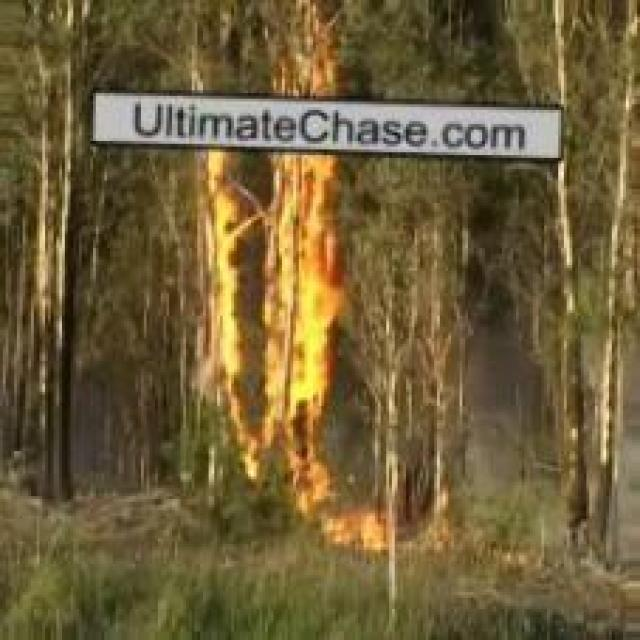fire: (171, 24, 436, 554)
